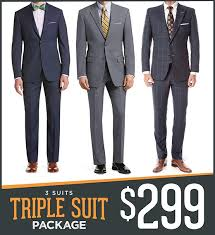F_M_suit jacket: (72, 2, 138, 86), (139, 4, 202, 88), (9, 2, 72, 85)
F_dress pants: (83, 69, 132, 170), (17, 73, 65, 167), (147, 73, 190, 163)
